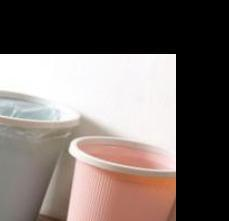Bote de Basura: (63, 124, 188, 221), (0, 87, 81, 221)
